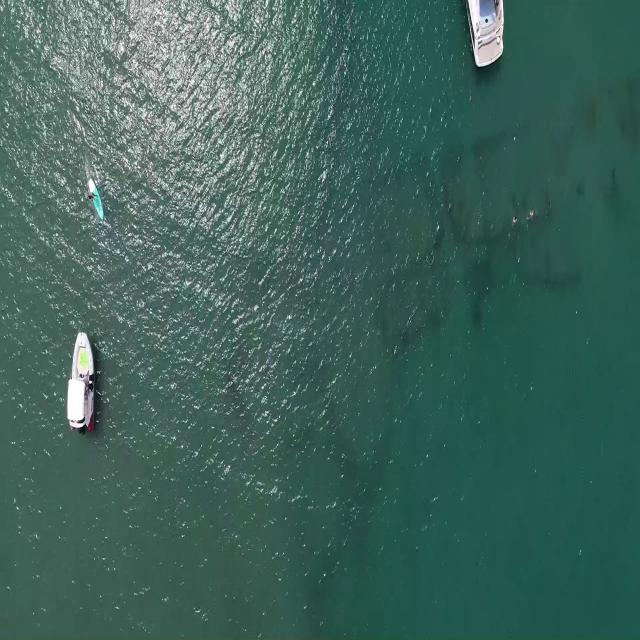boat: (65, 320, 97, 441), (466, 0, 506, 68)
person: (526, 208, 541, 223), (87, 190, 98, 204), (512, 214, 520, 224)
surfboard: (87, 174, 103, 225)
